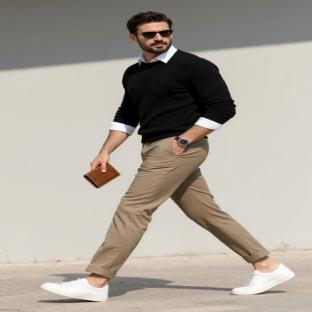Human: (42, 12, 293, 301)
